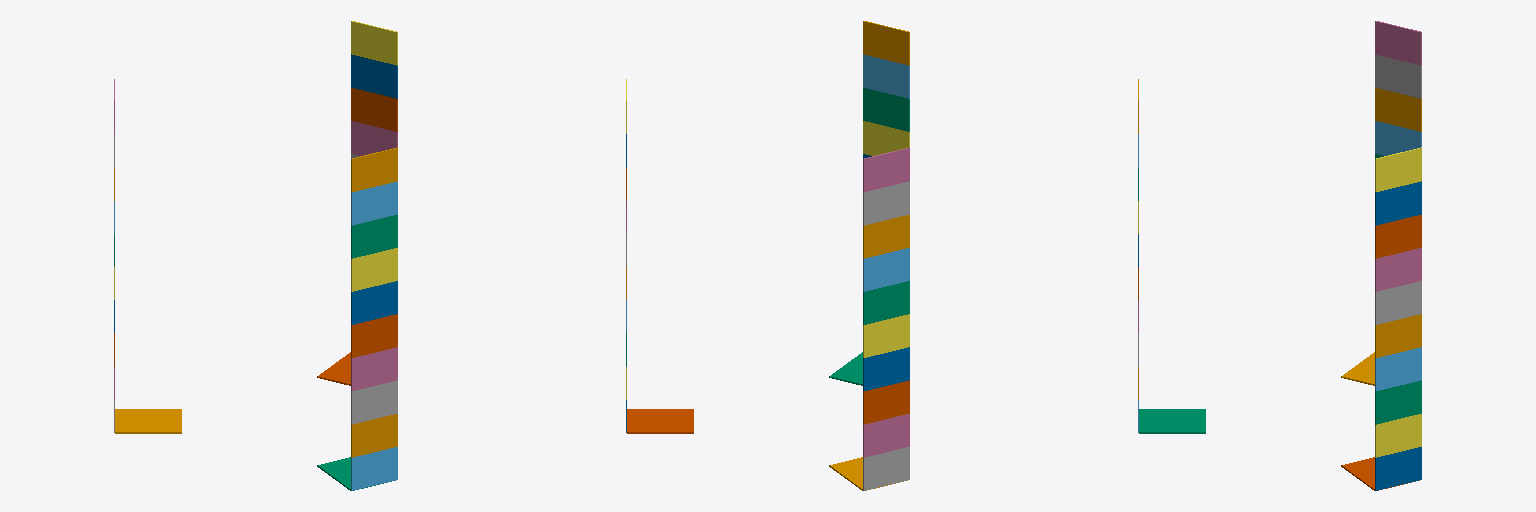
--- Facts derived from the render (not from the file) ---
3 views of the same robot in one strip: view 1: azimuth 30°, elevation 25°; view 2: azimuth 150°, elevation 25°; view 3: azimuth 270°, elevation 25° (orthographic).
Model gripper with 42 links and 41 joints (30 revolute, 4 prismatic, 7 fixed), rooted at world, posed all joints at 0 but 3 set to mid-range because 0 is outside their limits (finger_1_prismatic_joint = 0.097, finger_2_prismatic_joint = 0.097, finger_3_prismatic_joint = 0.097).
Links seen in each view (by area): view 1: finger_3_finger_hook_link, finger_1_segment_link_1, finger_2_segment_link_1, finger_1_segment_link_2, finger_1_segment_link_8, finger_2_segment_link_2, finger_1_segment_link_4, finger_1_segment_link_7, finger_1_segment_link_3, finger_1_segment_link_5, finger_1_segment_link_6, finger_1_segment_link_9 (+5 smaller); view 2: finger_2_finger_hook_link, finger_1_segment_link_1, finger_3_segment_link_1, finger_3_segment_link_2, finger_3_segment_link_8, finger_1_segment_link_2, finger_3_segment_link_4, finger_3_segment_link_7, finger_1_segment_link_3, finger_3_segment_link_3, finger_3_segment_link_5, finger_3_segment_link_6 (+5 smaller); view 3: finger_1_finger_hook_link, finger_2_segment_link_1, finger_3_segment_link_1, finger_2_segment_link_2, finger_2_segment_link_8, finger_3_segment_link_2, finger_2_segment_link_4, finger_2_segment_link_7, finger_2_segment_link_3, finger_2_segment_link_5, finger_2_segment_link_6, finger_2_segment_link_9 (+5 smaller).
Boxes of the visible links, bbox=[...] form: finger_3_finger_hook_link: bbox=[115, 409, 181, 433]; finger_1_segment_link_1: bbox=[351, 147, 397, 191]; finger_2_segment_link_1: bbox=[351, 21, 397, 65]; finger_1_segment_link_2: bbox=[351, 181, 397, 225]; finger_1_segment_link_8: bbox=[351, 380, 397, 424]; finger_2_segment_link_2: bbox=[351, 54, 397, 98]; finger_1_segment_link_4: bbox=[351, 248, 397, 291]; finger_1_segment_link_7: bbox=[351, 347, 397, 390]; finger_1_segment_link_3: bbox=[351, 215, 397, 258]; finger_1_segment_link_5: bbox=[351, 281, 397, 324]; finger_1_segment_link_6: bbox=[351, 314, 397, 357]; finger_1_segment_link_9: bbox=[351, 414, 397, 457]; finger_2_finger_hook_link: bbox=[627, 409, 693, 433]; finger_1_segment_link_1: bbox=[863, 21, 909, 65]; finger_3_segment_link_1: bbox=[863, 147, 909, 191]; finger_3_segment_link_2: bbox=[863, 181, 909, 225]; finger_3_segment_link_8: bbox=[863, 380, 909, 424]; finger_1_segment_link_2: bbox=[863, 54, 909, 98]; finger_3_segment_link_4: bbox=[863, 248, 909, 291]; finger_3_segment_link_7: bbox=[863, 347, 909, 390]; finger_1_segment_link_3: bbox=[863, 88, 909, 131]; finger_3_segment_link_3: bbox=[863, 215, 909, 258]; finger_3_segment_link_5: bbox=[863, 281, 909, 324]; finger_3_segment_link_6: bbox=[863, 314, 909, 357]; finger_1_finger_hook_link: bbox=[1139, 409, 1205, 433]; finger_2_segment_link_1: bbox=[1375, 147, 1421, 191]; finger_3_segment_link_1: bbox=[1375, 21, 1421, 65]; finger_2_segment_link_2: bbox=[1375, 181, 1421, 225]; finger_2_segment_link_8: bbox=[1375, 380, 1421, 424]; finger_3_segment_link_2: bbox=[1375, 54, 1421, 98]; finger_2_segment_link_4: bbox=[1375, 248, 1421, 291]; finger_2_segment_link_7: bbox=[1375, 347, 1421, 390]; finger_2_segment_link_3: bbox=[1375, 215, 1421, 258]; finger_2_segment_link_5: bbox=[1375, 281, 1421, 324]; finger_2_segment_link_6: bbox=[1375, 314, 1421, 357]; finger_2_segment_link_9: bbox=[1375, 414, 1421, 457].
Size in the robot's own frame: 0.1707 by 0.1478 by 0.1905 metres.
0 mesh visuals loaded from 4 distinct referenced files (none loaded); not drawn: 8 (reference not matched to a file when rendering).

URDF robot description (gripper):
<?xml version="1.0" encoding="utf-8"?>
<!-- =================================================================================== -->
<!-- |    This document was autogenerated by xacro from [local-path]/gripper_repo_ws/src/gripper_v2/gripper_description/urdf/gripper.urdf.xacro | -->
<!-- |    EDITING THIS FILE BY HAND IS NOT RECOMMENDED                                 | -->
<!-- =================================================================================== -->
<robot name="gripper">
  <!-- PARAMETERS TO BE SET BY HAND -->
  <!-- END OF PARAMETERS TO BE SET BY HAND -->
  <!-- retrieve info about the gripper
    <xacro:property name="filename" value="$(find gripper_description)/config/gripper.yaml"/>
    <xacro:property name="dictionary" value="${xacro.load_yaml(filename)}"/>
    <xacro:property name="is_segmented" value="${dictionary['gripper_config']['is_segmented']}"/>
    -->
  <!-- PARAMETERS TO BE SET BY HAND -->
  <!-- END OF PARAMETER TO BE SET BY HAND -->
  <!-- BASE LINK -->
  <link name="gripper_base_link">
    <inertial>
      <mass value="1.5"/>
      <origin rpy="3.14159265359 0 0" xyz="0 0 0.025"/>
      <inertia ixx="9.95e-3" ixy="2.73e-6" ixz="-14.32e-6" iyy="10.08e-3" iyz="121.38e-6" izz="5.13e-3"/>
    </inertial>
    <visual>
      <geometry>
        <mesh filename="package://gripper_description/meshes/main body visual.STL"/>
      </geometry>
    </visual>
    <collision>
      <geometry>
        <mesh filename="package://gripper_description/meshes/main body collision.STL"/>
      </geometry>
    </collision>
  </link>
  <!-- Intermediate link for prismatic joint -->
  <link name="finger_1_intermediate">
    <inertial>
      <mass value="0.1"/>
      <origin rpy="0 0 0" xyz="0 0 0"/>
      <inertia ixx="55.59e-6" ixy="-47.23e-6" ixz="1.16e-6" iyy="146.36e-6" iyz="1.00e-6" izz="154.18e-6"/>
    </inertial>
    <visual>
      <geometry>
        <mesh filename="package://gripper_description/meshes/nut visual.STL"/>
      </geometry>
    </visual>
    <collision>
      <geometry>
        <mesh filename="package://gripper_description/meshes/nut collision.STL"/>
      </geometry>
    </collision>
  </link>
  <!-- Main finger link -->
  <link name="finger_1">
    <inertial>
      <mass value="0.1"/>
      <origin rpy="0 0 0" xyz="0 0 0"/>
      <inertia ixx="55.59e-6" ixy="-47.23e-6" ixz="1.16e-6" iyy="146.36e-6" iyz="1.00e-6" izz="154.18e-6"/>
    </inertial>
    <visual>
      <geometry>
        <mesh filename="package://gripper_description/meshes/platform only visual.STL"/>
      </geometry>
    </visual>
    <collision>
      <geometry>
        <mesh filename="package://gripper_description/meshes/platform only collision.STL"/>
      </geometry>
    </collision>
  </link>
  <!-- Prismatic joint -->
  <joint name="finger_1_prismatic_joint" type="prismatic">
    <axis rpy="0 0 0" xyz="0 1 0"/>
    <parent link="gripper_base_link"/>
    <child link="finger_1_intermediate"/>
    <origin rpy="4.71238898038                    4.71238898038                    1.57079632679" xyz="0.0                    0.0                    0"/>
    <limit effort="40.0" lower="0.053" upper="0.141" velocity="0.015"/>
    <dynamics damping="1.0"/>
  </joint>
  <!-- Revolute joint -->
  <joint name="finger_1_revolute_joint" type="revolute">
    <axis rpy="0 0 0" xyz="0 0 1"/>
    <parent link="finger_1_intermediate"/>
    <child link="finger_1"/>
    <origin rpy="0 0 0.0" xyz="0 0 0"/>
    <limit effort="40.0" lower="-0.7" upper="0.7" velocity="0.1"/>
    <dynamics damping="1.0"/>
  </joint>
  <!-- Intermediate link for prismatic joint -->
  <link name="finger_2_intermediate">
    <inertial>
      <mass value="0.1"/>
      <origin rpy="0 0 0" xyz="0 0 0"/>
      <inertia ixx="55.59e-6" ixy="-47.23e-6" ixz="1.16e-6" iyy="146.36e-6" iyz="1.00e-6" izz="154.18e-6"/>
    </inertial>
    <visual>
      <geometry>
        <mesh filename="package://gripper_description/meshes/nut visual.STL"/>
      </geometry>
    </visual>
    <collision>
      <geometry>
        <mesh filename="package://gripper_description/meshes/nut collision.STL"/>
      </geometry>
    </collision>
  </link>
  <!-- Main finger link -->
  <link name="finger_2">
    <inertial>
      <mass value="0.1"/>
      <origin rpy="0 0 0" xyz="0 0 0"/>
      <inertia ixx="55.59e-6" ixy="-47.23e-6" ixz="1.16e-6" iyy="146.36e-6" iyz="1.00e-6" izz="154.18e-6"/>
    </inertial>
    <visual>
      <geometry>
        <mesh filename="package://gripper_description/meshes/platform only visual.STL"/>
      </geometry>
    </visual>
    <collision>
      <geometry>
        <mesh filename="package://gripper_description/meshes/platform only collision.STL"/>
      </geometry>
    </collision>
  </link>
  <!-- Prismatic joint -->
  <joint name="finger_2_prismatic_joint" type="prismatic">
    <axis rpy="0 0 0" xyz="0 1 0"/>
    <parent link="gripper_base_link"/>
    <child link="finger_2_intermediate"/>
    <origin rpy="4.71238898038                    4.71238898038                    -0.523598775598" xyz="0.0                    -0.0                    0"/>
    <limit effort="40.0" lower="0.053" upper="0.141" velocity="0.015"/>
    <dynamics damping="1.0"/>
  </joint>
  <!-- Revolute joint -->
  <joint name="finger_2_revolute_joint" type="revolute">
    <axis rpy="0 0 0" xyz="0 0 1"/>
    <parent link="finger_2_intermediate"/>
    <child link="finger_2"/>
    <origin rpy="0 0 0.0" xyz="0 0 0"/>
    <limit effort="40.0" lower="-0.7" upper="0.7" velocity="0.1"/>
    <dynamics damping="1.0"/>
  </joint>
  <!-- Intermediate link for prismatic joint -->
  <link name="finger_3_intermediate">
    <inertial>
      <mass value="0.1"/>
      <origin rpy="0 0 0" xyz="0 0 0"/>
      <inertia ixx="55.59e-6" ixy="-47.23e-6" ixz="1.16e-6" iyy="146.36e-6" iyz="1.00e-6" izz="154.18e-6"/>
    </inertial>
    <visual>
      <geometry>
        <mesh filename="package://gripper_description/meshes/nut visual.STL"/>
      </geometry>
    </visual>
    <collision>
      <geometry>
        <mesh filename="package://gripper_description/meshes/nut collision.STL"/>
      </geometry>
    </collision>
  </link>
  <!-- Main finger link -->
  <link name="finger_3">
    <inertial>
      <mass value="0.1"/>
      <origin rpy="0 0 0" xyz="0 0 0"/>
      <inertia ixx="55.59e-6" ixy="-47.23e-6" ixz="1.16e-6" iyy="146.36e-6" iyz="1.00e-6" izz="154.18e-6"/>
    </inertial>
    <visual>
      <geometry>
        <mesh filename="package://gripper_description/meshes/platform only visual.STL"/>
      </geometry>
    </visual>
    <collision>
      <geometry>
        <mesh filename="package://gripper_description/meshes/platform only collision.STL"/>
      </geometry>
    </collision>
  </link>
  <!-- Prismatic joint -->
  <joint name="finger_3_prismatic_joint" type="prismatic">
    <axis rpy="0 0 0" xyz="0 1 0"/>
    <parent link="gripper_base_link"/>
    <child link="finger_3_intermediate"/>
    <origin rpy="4.71238898038                    4.71238898038                    -2.61799387799" xyz="-0.0                    -0.0                    0"/>
    <limit effort="40.0" lower="0.053" upper="0.141" velocity="0.015"/>
    <dynamics damping="1.0"/>
  </joint>
  <!-- Revolute joint -->
  <joint name="finger_3_revolute_joint" type="revolute">
    <axis rpy="0 0 0" xyz="0 0 1"/>
    <parent link="finger_3_intermediate"/>
    <child link="finger_3"/>
    <origin rpy="0 0 0.0" xyz="0 0 0"/>
    <limit effort="40.0" lower="-0.7" upper="0.7" velocity="0.1"/>
    <dynamics damping="1.0"/>
  </joint>
  <!-- PALM -->
  <link name="palm">
    <inertial>
      <mass value="0.05"/>
      <origin rpy="0 0 0" xyz="0 0 0"/>
      <inertia ixx="10.0e-6" ixy="0.0" ixz="0.0" iyy="10.0e-6" iyz="0.0" izz="10.0e-6"/>
    </inertial>
    <visual>
      <origin rpy="0 0 0" xyz="0 0 0"/>
      <geometry>
        <mesh filename="package://gripper_description/meshes/palm visual.STL"/>
      </geometry>
    </visual>
    <collision>
      <geometry>
        <mesh filename="package://gripper_description/meshes/palm collision.STL"/>
      </geometry>
    </collision>
  </link>
  <joint name="palm_prismatic_joint" type="prismatic">
    <axis rpy="0 0 0" xyz="1 0 0"/>
    <parent link="gripper_base_link"/>
    <child link="palm"/>
    <origin rpy="0 -1.57079632679 0" xyz="0 0 0"/>
    <limit effort="40.0" lower="0.0" upper="0.16" velocity="0.036"/>
    <dynamics damping="1.0"/>
  </joint>
  <!-- PARAMETERS TO BE SET BY HAND -->
  <!-- END OF PARAMETERS TO BE SET BY HAND -->
  <!-- <xacro:property name="joint_friction" value="${total_friction / num_segments}"/>
    <xacro:property name="joint_damping" value="${total_damping * num_segments}"/> -->
  <link name="finger_1_segment_link_1">
    <inertial>
      <mass value="0.00633333333333"/>
      <inertia ixx="4.14205277778e-07" ixy="0.00" ixz="0.00" iyy="7.62538611111e-07" iyz="0.00" izz="1.17588888889e-06"/>
      <!-- <inertia ixx="${1e-6 * stability_factor}"
                 iyy="${1e-6 * stability_factor}"
                 izz="${1e-6 * stability_factor}"
                ixy="0.00" iyz="0.00" ixz="0.00" /> -->
    </inertial>
    <visual>
      <origin rpy="0 0 0" xyz="0.0095 0 0"/>
      <geometry>
        <box size="0.019 0.028 0.0009"/>
      </geometry>
    </visual>
    <collision>
      <origin rpy="0 0 0" xyz="0.0095 0 0"/>
      <geometry>
        <box size="0.019 0.028 0.0009"/>
      </geometry>
    </collision>
  </link>
  <gazebo reference="finger_1_segment_link_1">
    <material>Gazebo/Orange</material>
    <mu1>0.1</mu1>
    <mu2>0.1</mu2>
    <maxVel>0.0</maxVel>
    <minDepth>0.001</minDepth>
    <!-- <kp>100</kp>
        <kd>1</kd> -->
  </gazebo>
  <link name="finger_1_segment_link_2">
    <inertial>
      <mass value="0.00633333333333"/>
      <inertia ixx="4.14205277778e-07" ixy="0.00" ixz="0.00" iyy="7.62538611111e-07" iyz="0.00" izz="1.17588888889e-06"/>
      <!-- <inertia ixx="${1e-6 * stability_factor}"
                 iyy="${1e-6 * stability_factor}"
                 izz="${1e-6 * stability_factor}"
                ixy="0.00" iyz="0.00" ixz="0.00" /> -->
    </inertial>
    <visual>
      <origin rpy="0 0 0" xyz="0.0095 0 0"/>
      <geometry>
        <box size="0.019 0.028 0.0009"/>
      </geometry>
    </visual>
    <collision>
      <origin rpy="0 0 0" xyz="0.0095 0 0"/>
      <geometry>
        <box size="0.019 0.028 0.0009"/>
      </geometry>
    </collision>
  </link>
  <gazebo reference="finger_1_segment_link_2">
    <material>Gazebo/Orange</material>
    <mu1>0.1</mu1>
    <mu2>0.1</mu2>
    <maxVel>0.0</maxVel>
    <minDepth>0.001</minDepth>
    <!-- <kp>100</kp>
        <kd>1</kd> -->
  </gazebo>
  <!-- bending joint -->
  <joint name="finger_1_segment_joint_1" type="revolute">
    <axis rpy="0 0 0" xyz="0 1 0"/>
    <parent link="finger_1_segment_link_1"/>
    <child link="finger_1_segment_link_2"/>
    <origin rpy="0 0 0" xyz="0.019 0 0"/>
    <limit effort="1000.0" lower="-1.0" upper="1.0" velocity="1.0"/>
    <dynamics damping="0.001" friction="0.0"/>
  </joint>
  <gazebo reference="finger_1_segment_joint_1">
    <provideFeedback>1</provideFeedback>
    <springReference>0.0</springReference>
    <implicitSpringDamper>1</implicitSpringDamper>
    <springStiffness>3.0</springStiffness>
  </gazebo>
  <!-- set transmission for gazebo ROS controllers-->
  <transmission name="finger_1_segment_tran_1">
    <type>transmission_interface/SimpleTransmission</type>
    <joint name="finger_1_segment_joint_1">
      <hardwareInterface>hardware_interface/EffortJointInterface</hardwareInterface>
    </joint>
    <actuator name="finger_1_segment_motor_1">
      <hardwareInterface>hardware_interface/EffortJointInterface</hardwareInterface>
      <mechanicalReduction>1</mechanicalReduction>
    </actuator>
  </transmission>
  <link name="finger_1_segment_link_3">
    <inertial>
      <mass value="0.00633333333333"/>
      <inertia ixx="4.14205277778e-07" ixy="0.00" ixz="0.00" iyy="7.62538611111e-07" iyz="0.00" izz="1.17588888889e-06"/>
      <!-- <inertia ixx="${1e-6 * stability_factor}"
                 iyy="${1e-6 * stability_factor}"
                 izz="${1e-6 * stability_factor}"
                ixy="0.00" iyz="0.00" ixz="0.00" /> -->
    </inertial>
    <visual>
      <origin rpy="0 0 0" xyz="0.0095 0 0"/>
      <geometry>
        <box size="0.019 0.028 0.0009"/>
      </geometry>
    </visual>
    <collision>
      <origin rpy="0 0 0" xyz="0.0095 0 0"/>
      <geometry>
        <box size="0.019 0.028 0.0009"/>
      </geometry>
    </collision>
  </link>
  <gazebo reference="finger_1_segment_link_3">
    <material>Gazebo/Orange</material>
    <mu1>0.1</mu1>
    <mu2>0.1</mu2>
    <maxVel>0.0</maxVel>
    <minDepth>0.001</minDepth>
    <!-- <kp>100</kp>
        <kd>1</kd> -->
  </gazebo>
  <!-- bending joint -->
  <joint name="finger_1_segment_joint_2" type="revolute">
    <axis rpy="0 0 0" xyz="0 1 0"/>
    <parent link="finger_1_segment_link_2"/>
    <child link="finger_1_segment_link_3"/>
    <origin rpy="0 0 0" xyz="0.019 0 0"/>
    <limit effort="1000.0" lower="-1.0" upper="1.0" velocity="1.0"/>
    <dynamics damping="0.001" friction="0.0"/>
  </joint>
  <gazebo reference="finger_1_segment_joint_2">
    <provideFeedback>1</provideFeedback>
    <springReference>0.0</springReference>
    <implicitSpringDamper>1</implicitSpringDamper>
    <springStiffness>3.0</springStiffness>
  </gazebo>
  <!-- set transmission for gazebo ROS controllers-->
  <transmission name="finger_1_segment_tran_2">
    <type>transmission_interface/SimpleTransmission</type>
    <joint name="finger_1_segment_joint_2">
      <hardwareInterface>hardware_interface/EffortJointInterface</hardwareInterface>
    </joint>
    <actuator name="finger_1_segment_motor_2">
      <hardwareInterface>hardware_interface/EffortJointInterface</hardwareInterface>
      <mechanicalReduction>1</mechanicalReduction>
    </actuator>
  </transmission>
  <link name="finger_1_segment_link_4">
    <inertial>
      <mass value="0.00633333333333"/>
      <inertia ixx="4.14205277778e-07" ixy="0.00" ixz="0.00" iyy="7.62538611111e-07" iyz="0.00" izz="1.17588888889e-06"/>
      <!-- <inertia ixx="${1e-6 * stability_factor}"
                 iyy="${1e-6 * stability_factor}"
                 izz="${1e-6 * stability_factor}"
                ixy="0.00" iyz="0.00" ixz="0.00" /> -->
    </inertial>
    <visual>
      <origin rpy="0 0 0" xyz="0.0095 0 0"/>
      <geometry>
        <box size="0.019 0.028 0.0009"/>
      </geometry>
    </visual>
    <collision>
      <origin rpy="0 0 0" xyz="0.0095 0 0"/>
      <geometry>
        <box size="0.019 0.028 0.0009"/>
      </geometry>
    </collision>
  </link>
  <gazebo reference="finger_1_segment_link_4">
    <material>Gazebo/Orange</material>
    <mu1>0.1</mu1>
    <mu2>0.1</mu2>
    <maxVel>0.0</maxVel>
    <minDepth>0.001</minDepth>
    <!-- <kp>100</kp>
        <kd>1</kd> -->
  </gazebo>
  <!-- bending joint -->
  <joint name="finger_1_segment_joint_3" type="revolute">
    <axis rpy="0 0 0" xyz="0 1 0"/>
    <parent link="finger_1_segment_link_3"/>
    <child link="finger_1_segment_link_4"/>
    <origin rpy="0 0 0" xyz="0.019 0 0"/>
    <limit effort="1000.0" lower="-1.0" upper="1.0" velocity="1.0"/>
    <dynamics damping="0.001" friction="0.0"/>
  </joint>
  <gazebo reference="finger_1_segment_joint_3">
    <provideFeedback>1</provideFeedback>
    <springReference>0.0</springReference>
    <implicitSpringDamper>1</implicitSpringDamper>
    <springStiffness>3.0</springStiffness>
  </gazebo>
  <!-- set transmission for gazebo ROS controllers-->
  <transmission name="finger_1_segment_tran_3">
    <type>transmission_interface/SimpleTransmission</type>
    <joint name="finger_1_segment_joint_3">
      <hardwareInterface>hardware_interface/EffortJointInterface</hardwareInterface>
    </joint>
    <actuator name="finger_1_segment_motor_3">
      <hardwareInterface>hardware_interface/EffortJointInterface</hardwareInterface>
      <mechanicalReduction>1</mechanicalReduction>
    </actuator>
  </transmission>
  <link name="finger_1_segment_link_5">
    <inertial>
      <mass value="0.00633333333333"/>
      <inertia ixx="4.14205277778e-07" ixy="0.00" ixz="0.00" iyy="7.62538611111e-07" iyz="0.00" izz="1.17588888889e-06"/>
      <!-- <inertia ixx="${1e-6 * stability_factor}"
                 iyy="${1e-6 * stability_factor}"
                 izz="${1e-6 * stability_factor}"
                ixy="0.00" iyz="0.00" ixz="0.00" /> -->
    </inertial>
    <visual>
      <origin rpy="0 0 0" xyz="0.0095 0 0"/>
      <geometry>
        <box size="0.019 0.028 0.0009"/>
      </geometry>
    </visual>
    <collision>
      <origin rpy="0 0 0" xyz="0.0095 0 0"/>
      <geometry>
        <box size="0.019 0.028 0.0009"/>
      </geometry>
    </collision>
  </link>
  <gazebo reference="finger_1_segment_link_5">
    <material>Gazebo/Orange</material>
    <mu1>0.1</mu1>
    <mu2>0.1</mu2>
    <maxVel>0.0</maxVel>
    <minDepth>0.001</minDepth>
    <!-- <kp>100</kp>
        <kd>1</kd> -->
  </gazebo>
  <!-- bending joint -->
  <joint name="finger_1_segment_joint_4" type="revolute">
    <axis rpy="0 0 0" xyz="0 1 0"/>
    <parent link="finger_1_segment_link_4"/>
    <child link="finger_1_segment_link_5"/>
    <origin rpy="0 0 0" xyz="0.019 0 0"/>
    <limit effort="1000.0" lower="-1.0" upper="1.0" velocity="1.0"/>
    <dynamics damping="0.001" friction="0.0"/>
  </joint>
  <gazebo reference="finger_1_segment_joint_4">
    <provideFeedback>1</provideFeedback>
    <springReference>0.0</springReference>
    <implicitSpringDamper>1</implicitSpringDamper>
    <springStiffness>3.0</springStiffness>
  </gazebo>
  <!-- set transmission for gazebo ROS controllers-->
  <transmission name="finger_1_segment_tran_4">
    <type>transmission_interface/SimpleTransmission</type>
    <joint name="finger_1_segment_joint_4">
      <hardwareInterface>hardware_interface/EffortJointInterface</hardwareInterface>
    </joint>
    <actuator name="finger_1_segment_motor_4">
      <hardwareInterface>hardware_interface/EffortJointInterface</hardwareInterface>
      <mechanicalReduction>1</mechanicalReduction>
    </actuator>
  </transmission>
  <link name="finger_1_segment_link_6">
    <inertial>
      <mass value="0.00633333333333"/>
      <inertia ixx="4.14205277778e-07" ixy="0.00" ixz="0.00" iyy="7.62538611111e-07" iyz="0.00" izz="1.17588888889e-06"/>
      <!-- <inertia ixx="${1e-6 * stability_factor}"
                 iyy="${1e-6 * stability_factor}"
                 izz="${1e-6 * stability_factor}"
                ixy="0.00" iyz="0.00" ixz="0.00" /> -->
    </inertial>
    <visual>
      <origin rpy="0 0 0" xyz="0.0095 0 0"/>
      <geometry>
        <box size="0.019 0.028 0.0009"/>
      </geometry>
    </visual>
    <collision>
      <origin rpy="0 0 0" xyz="0.0095 0 0"/>
      <geometry>
        <box size="0.019 0.028 0.0009"/>
      </geometry>
    </collision>
  </link>
  <gazebo reference="finger_1_segment_link_6">
    <material>Gazebo/Orange</material>
    <mu1>0.1</mu1>
    <mu2>0.1</mu2>
    <maxVel>0.0</maxVel>
    <minDepth>0.001</minDepth>
    <!-- <kp>100</kp>
        <kd>1</kd> -->
  </gazebo>
  <!-- bending joint -->
  <joint name="finger_1_segment_joint_5" type="revolute">
    <axis rpy="0 0 0" xyz="0 1 0"/>
    <parent link="finger_1_segment_link_5"/>
    <child link="finger_1_segment_link_6"/>
    <origin rpy="0 0 0" xyz="0.019 0 0"/>
    <limit effort="1000.0" lower="-1.0" upper="1.0" velocity="1.0"/>
    <dynamics damping="0.001" friction="0.0"/>
  </joint>
  <gazebo reference="finger_1_segment_joint_5">
    <provideFeedback>1</provideFeedback>
    <springReference>0.0</springReference>
    <implicitSpringDamper>1</implicitSpringDamper>
    <springStiffness>3.0</springStiffness>
  </gazebo>
  <!-- set transmission for gazebo ROS controllers-->
  <transmission name="finger_1_segment_tran_5">
    <type>transmission_interface/SimpleTransmission</type>
    <joint name="finger_1_segment_joint_5">
      <hardwareInterface>hardware_interface/EffortJointInterface</hardwareInterface>
    </joint>
    <actuator name="finger_1_segment_motor_5">
      <hardwareInterface>hardware_interface/EffortJointInterface</hardwareInterface>
      <mechanicalReduction>1</mechanicalReduction>
    </actuator>
  </transmission>
  <link name="finger_1_segment_link_7">
    <inertial>
      <mass value="0.00633333333333"/>
      <inertia ixx="4.14205277778e-07" ixy="0.00" ixz="0.00" iyy="7.62538611111e-07" iyz="0.00" izz="1.17588888889e-06"/>
      <!-- <inertia ixx="${1e-6 * stability_factor}"
                 iyy="${1e-6 * stability_factor}"
                 izz="${1e-6 * stability_factor}"
                ixy="0.00" iyz="0.00" ixz="0.00" /> -->
    </inertial>
    <visual>
      <origin rpy="0 0 0" xyz="0.0095 0 0"/>
      <geometry>
        <box size="0.019 0.028 0.0009"/>
      </geometry>
    </visual>
    <collision>
      <origin rpy="0 0 0" xyz="0.0095 0 0"/>
      <geometry>
        <box size="0.019 0.028 0.0009"/>
      </geometry>
    </collision>
  </link>
  <gazebo reference="finger_1_segment_link_7">
    <material>Gazebo/Orange</material>
    <mu1>0.1</mu1>
    <mu2>0.1</mu2>
    <maxVel>0.0</maxVel>
    <minDepth>0.001</minDepth>
    <!-- <kp>100</kp>
        <kd>1</kd> -->
  </gazebo>
  <!-- bending joint -->
  <joint name="finger_1_segment_joint_6" type="revolute">
    <axis rpy="0 0 0" xyz="0 1 0"/>
    <parent link="finger_1_segment_link_6"/>
    <child link="finger_1_segment_link_7"/>
    <origin rpy="0 0 0" xyz="0.019 0 0"/>
    <limit effort="1000.0" lower="-1.0" upper="1.0" velocity="1.0"/>
    <dynamics damping="0.001" friction="0.0"/>
  </joint>
  <gazebo reference="finger_1_segment_joint_6">
    <provideFeedback>1</provideFeedback>
    <springReference>0.0</springReference>
    <implicitSpringDamper>1</implicitSpringDamper>
    <springStiffness>3.0</springStiffness>
  </gazebo>
  <!-- set transmission for gazebo ROS controllers-->
  <transmission name="finger_1_segment_tran_6">
    <type>transmission_interface/SimpleTransmission</type>
    <joint name="finger_1_segment_joint_6">
      <hardwareInterface>hardware_interface/EffortJointInterface</hardwareInterface>
    </joint>
    <actuator name="finger_1_segment_motor_6">
      <hardwareInterface>hardware_interface/EffortJointInterface</hardwareInterface>
      <mechanicalReduction>1</mechanicalReduction>
    </actuator>
  </transmission>
  <link name="finger_1_segment_link_8">
    <inertial>
      <mass value="0.00633333333333"/>
      <inertia ixx="4.14205277778e-07" ixy="0.00" ixz="0.00" iyy="7.62538611111e-07" iyz="0.00" izz="1.17588888889e-06"/>
      <!-- <inertia ixx="${1e-6 * stability_factor}"
                 iyy="${1e-6 * stability_factor}"
                 izz="${1e-6 * stability_factor}"
                ixy="0.00" iyz="0.00" ixz="0.00" /> -->
    </inertial>
    <visual>
      <origin rpy="0 0 0" xyz="0.0095 0 0"/>
      <geometry>
        <box size="0.019 0.028 0.0009"/>
      </geometry>
    </visual>
    <collision>
      <origin rpy="0 0 0" xyz="0.0095 0 0"/>
      <geometry>
        <box size="0.019 0.028 0.0009"/>
      </geometry>
    </collision>
  </link>
  <gazebo reference="finger_1_segment_link_8">
    <material>Gazebo/Orange</material>
    <mu1>0.1</mu1>
    <mu2>0.1</mu2>
    <maxVel>0.0</maxVel>
    <minDepth>0.001</minDepth>
    <!-- <kp>100</kp>
        <kd>1</kd> -->
  </gazebo>
  <!-- bending joint -->
  <joint name="finger_1_segment_joint_7" type="revolute">
    <axis rpy="0 0 0" xyz="0 1 0"/>
    <parent link="finger_1_segment_link_7"/>
    <child link="finger_1_segment_link_8"/>
    <origin rpy="0 0 0" xyz="0.019 0 0"/>
    <limit effort="1000.0" lower="-1.0" upper="1.0" velocity="1.0"/>
    <dynamics damping="0.001" friction="0.0"/>
  </joint>
  <gazebo reference="finger_1_segment_joint_7">
    <provideFeedback>1</provideFeedback>
    <springReference>0.0</springReference>
    <implicitSpringDamper>1</implicitSpringDamper>
    <springStiffness>3.0</springStiffness>
  </gazebo>
  <!-- set transmission for gazebo ROS controllers-->
  <transmission name="finger_1_segment_tran_7">
    <type>transmission_interface/SimpleTransmission</type>
    <joint name="finger_1_segment_joint_7">
      <hardwareInterface>hardware_interface/EffortJointInterface</hardwareInterface>
    </joint>
    <actuator name="finger_1_segment_motor_7">
      <hardwareInterface>hardware_interface/EffortJointInterface</hardwareInterface>
      <mechanicalReduction>1</mechanicalReduction>
    </actuator>
  </transmission>
  <link name="finger_1_segment_link_9">
    <inertial>
      <mass value="0.00633333333333"/>
      <inertia ixx="4.14205277778e-07" ixy="0.00" ixz="0.00" iyy="7.62538611111e-07" iyz="0.00" izz="1.17588888889e-06"/>
      <!-- <inertia ixx="${1e-6 * stability_factor}"
                 iyy="${1e-6 * stability_factor}"
                 izz="${1e-6 * stability_factor}"
                ixy="0.00" iyz="0.00" ixz="0.00" /> -->
    </inertial>
    <visual>
      <origin rpy="0 0 0" xyz="0.0095 0 0"/>
      <geometry>
        <box size="0.019 0.028 0.0009"/>
      </geometry>
    </visual>
    <collision>
      <origin rpy="0 0 0" xyz="0.0095 0 0"/>
      <geometry>
        <box size="0.019 0.028 0.0009"/>
      </geometry>
    </collision>
  </link>
  <gazebo reference="finger_1_segment_link_9">
    <material>Gazebo/Orange</material>
    <mu1>0.1</mu1>
    <mu2>0.1</mu2>
    <maxVel>0.0</maxVel>
    <minDepth>0.001</minDepth>
    <!-- <kp>100</kp>
        <kd>1</kd> -->
  </gazebo>
  <!-- bending joint -->
  <joint name="finger_1_segment_joint_8" type="revolute">
    <axis rpy="0 0 0" xyz="0 1 0"/>
    <parent link="finger_1_segment_link_8"/>
    <child link="finger_1_segment_link_9"/>
    <origin rpy="0 0 0" xyz="0.019 0 0"/>
    <limit effort="1000.0" lower="-1.0" upper="1.0" velocity="1.0"/>
    <dynamics damping="0.001" friction="0.0"/>
  </joint>
  <gazebo reference="finger_1_segment_joint_8">
    <provideFeedback>1</provideFeedback>
    <springReference>0.0</springReference>
    <implicitSpringDamper>1</implicitSpringDamper>
    <springStiffness>3.0</springStiffness>
  </gazebo>
  <!-- set transmission for gazebo ROS controllers-->
  <transmission name="finger_1_segment_tran_8">
    <type>transmission_interface/SimpleTransmission</type>
    <joint name="finger_1_segment_joint_8">
      <hardwareInterface>hardware_interface/EffortJointInterface</hardwareInterface>
    </joint>
    <actuator name="finger_1_segment_motor_8">
      <hardwareInterface>hardware_interface/EffortJointInterface</hardwareInterface>
      <mechanicalReduction>1</mechanicalReduction>
    </actuator>
  </transmission>
  <link name="finger_1_segment_link_10">
    <inertial>
      <mass value="0.00633333333333"/>
      <inertia ixx="4.14205277778e-07" ixy="0.00" ixz="0.00" iyy="7.62538611111e-07" iyz="0.00" izz="1.17588888889e-06"/>
      <!-- <inertia ixx="${1e-6 * stability_factor}"
                 iyy="${1e-6 * stability_factor}"
                 izz="${1e-6 * stability_factor}"
                ixy="0.00" iyz="0.00" ixz="0.00" /> -->
    </inertial>
    <visual>
      <origin rpy="0 0 0" xyz="0.0095 0 0"/>
      <geometry>
        <box size="0.019 0.028 0.0009"/>
      </geometry>
    </visual>
    <collision>
      <origin rpy="0 0 0" xyz="0.0095 0 0"/>
      <geometry>
        <box size="0.019 0.028 0.0009"/>
      </geometry>
    </collision>
  </link>
  <gazebo reference="finger_1_segment_link_10">
    <material>Gazebo/Orange</material>
    <mu1>0.1</mu1>
    <mu2>0.1</mu2>
    <maxVel>0.0</maxVel>
    <minDepth>0.001</minDepth>
    <!-- <kp>100</kp>
        <kd>1</kd> -->
  </gazebo>
  <!-- bending joint -->
  <joint name="finger_1_segment_joint_9" type="revolute">
    <axis rpy="0 0 0" xyz="0 1 0"/>
    <parent link="finger_1_segment_link_9"/>
    <child link="finger_1_segment_link_10"/>
    <origin rpy="0 0 0" xyz="0.019 0 0"/>
    <limit effort="1000.0" lower="-1.0" upper="1.0" velocity="1.0"/>
    <dynamics damping="0.001" friction="0.0"/>
  </joint>
  <gazebo reference="finger_1_segment_joint_9">
    <provideFeedback>1</provideFeedback>
    <springReference>0.0</springReference>
    <implicitSpringDamper>1</implicitSpringDamper>
    <springStiffness>3.0</springStiffness>
  </gazebo>
  <!-- set transmission for gazebo ROS controllers-->
  <transmission name="finger_1_segment_tran_9">
    <type>transmission_interface/SimpleTransmission</type>
    <joint name="finger_1_segment_joint_9">
      <hardwareInterface>hardware_interface/EffortJointInterface</hardwareInterface>
    </joint>
    <actuator name="finger_1_segment_motor_9">
      <hardwareInterface>hardware_interface/EffortJointInterface</hardwareInterface>
      <mechanicalReduction>1</mechanicalReduction>
    </actuator>
  </transmission>
  <!-- Add the finger hook link -->
  <link name="finger_1_finger_hook_link">
    <inertial>
      <mass value="0.00633333333333"/>
      <inertia ixx="4.14205277778e-07" ixy="0.00" ixz="0.00" iyy="7.62538611111e-07" iyz="0.00" izz="1.17588888889e-06"/>
      <!-- <inertia ixx="${1e-6 * stability_factor}"
                 iyy="${1e-6 * stability_factor}"
                 izz="${1e-6 * stability_factor}"
                ixy="0.00" iyz="0.00" ixz="0.00" /> -->
    </inertial>
    <visual>
      <origin rpy="0 0 0" xyz="0.0175 0 0"/>
      <geometry>
        <box size="0.035 0.028 0.0009"/>
      </geometry>
    </visual>
    <collision>
      <origin rpy="0 0 0" xyz="0.0175 0 0"/>
      <geometry>
        <box size="0.035 0.028 0.0009"/>
      </geometry>
    </collision>
  </link>
  <gazebo reference="finger_1_finger_hook_link">
    <material>Gazebo/Orange</material>
    <mu1>0.1</mu1>
    <mu2>0.1</mu2>
    <maxVel>0.0</maxVel>
    <minDepth>0.001</minDepth>
    <!-- <kp>100</kp>
        <kd>1</kd> -->
  </gazebo>
  <!-- Connect the finger hook via a fixed joint -->
  <joint name="finger_1_finger_hook_joint" type="fixed">
    <parent link="finger_1_segment_link_10"/>
    <child link="finger_1_finger_hook_link"/>
    <origin rpy="0 -1.57079632679 0" xyz="0.019 0 0"/>
  </joint>
  <!-- PARAMETERS TO BE SET BY HAND -->
  <!-- END OF PARAMETERS TO BE SET BY HAND -->
  <!-- <xacro:property name="joint_friction" value="${total_friction / num_segments}"/>
    <xacro:property name="joint_damping" value="${total_damping * num_segments}"/> -->
  <link name="finger_2_segment_link_1">
    <inertial>
      <mass value="0.00633333333333"/>
      <inertia ixx="4.14205277778e-07" ixy="0.00" ixz="0.00" iyy="7.62538611111e-07" iyz="0.00" izz="1.17588888889e-06"/>
      <!-- <inertia ixx="${1e-6 * stability_factor}"
                 iyy="${1e-6 * stability_factor}"
                 izz="${1e-6 * stability_factor}"
                ixy="0.00" iyz="0.00" ixz="0.00" /> -->
    </inertial>
    <visual>
      <origin rpy="0 0 0" xyz="0.0095 0 0"/>
      <geometry>
        <box size="0.019 0.028 0.0009"/>
      </geometry>
    </visual>
    <collision>
      <origin rpy="0 0 0" xyz="0.0095 0 0"/>
      <geometry>
        <box size="0.019 0.028 0.0009"/>
      </geometry>
    </collision>
  </link>
  <gazebo reference="finger_2_segment_link_1">
    <material>Gazebo/Orange</material>
    <mu1>0.1</mu1>
    <mu2>0.1</mu2>
    <maxVel>0.0</maxVel>
    <minDepth>0.001</minDepth>
    <!-- <kp>100</kp>
        <kd>1</kd> -->
  </gazebo>
  <link name="finger_2_segment_link_2">
    <inertial>
      <mass value="0.00633333333333"/>
      <inertia ixx="4.14205277778e-07" ixy="0.00" ixz="0.00" iyy="7.62538611111e-07" iyz="0.00" izz="1.17588888889e-06"/>
      <!-- <inertia ixx="${1e-6 * stability_factor}"
                 iyy="${1e-6 * stability_factor}"
                 izz="${1e-6 * stability_factor}"
                ixy="0.00" iyz="0.00" ixz="0.00" /> -->
    </inertial>
    <visual>
      <origin rpy="0 0 0" xyz="0.0095 0 0"/>
      <geometry>
        <box size="0.019 0.028 0.0009"/>
      </geometry>
    </visual>
    <collision>
      <origin rpy="0 0 0" xyz="0.0095 0 0"/>
      <geometry>
        <box size="0.019 0.028 0.0009"/>
      </geometry>
    </collision>
  </link>
  <gazebo reference="finger_2_segment_link_2">
    <material>Gazebo/Orange</material>
    <mu1>0.1</mu1>
    <mu2>0.1</mu2>
    <maxVel>0.0</maxVel>
    <minDepth>0.001</minDepth>
    <!-- <kp>100</kp>
        <kd>1</kd> -->
  </gazebo>
  <!-- bending joint -->
  <joint name="finger_2_segment_joint_1" type="revolute">
    <axis rpy="0 0 0" xyz="0 1 0"/>
    <parent link="finger_2_segment_link_1"/>
    <child link="finger_2_segment_link_2"/>
    <origin rpy="0 0 0" xyz="0.019 0 0"/>
    <limit effort="1000.0" lower="-1.0" upper="1.0" velocity="1.0"/>
    <dynamics damping="0.001" friction="0.0"/>
  </joint>
  <gazebo reference="finger_2_segment_joint_1">
    <provideFeedback>1</provideFeedback>
    <springReference>0.0</springReference>
    <implicitSpringDamper>1</implicitSpringDamper>
    <springStiffness>3.0</springStiffness>
  </gazebo>
  <!-- set transmission for gazebo ROS controllers-->
  <transmission name="finger_2_segment_tran_1">
    <type>transmission_interface/SimpleTransmission</type>
    <joint name="finger_2_segment_joint_1">
      <hardwareInterface>hardware_interface/EffortJointInterface</hardwareInterface>
    </joint>
    <actuator name="finger_2_segment_motor_1">
      <hardwareInterface>hardware_interface/EffortJointInterface</hardwareInterface>
      <mechanicalReduction>1</mechanicalReduction>
    </actuator>
  </transmission>
  <link name="finger_2_segment_link_3">
    <inertial>
      <mass value="0.00633333333333"/>
      <inertia ixx="4.14205277778e-07" ixy="0.00" ixz="0.00" iyy="7.62538611111e-07" iyz="0.00" izz="1.17588888889e-06"/>
      <!-- <inertia ixx="${1e-6 * stability_factor}"
                 iyy="${1e-6 * stability_factor}"
                 izz="${1e-6 * stability_factor}"
                ixy="0.00" iyz="0.00" ixz="0.00" /> -->
    </inertial>
    <visual>
      <origin rpy="0 0 0" xyz="0.0095 0 0"/>
      <geometry>
        <box size="0.019 0.028 0.0009"/>
      </geometry>
    </visual>
    <collision>
      <origin rpy="0 0 0" xyz="0.0095 0 0"/>
      <geometry>
        <box size="0.019 0.028 0.0009"/>
      </geometry>
    </collision>
  </link>
  <gazebo reference="finger_2_segment_link_3">
    <material>Gazebo/Orange</material>
    <mu1>0.1</mu1>
    <mu2>0.1</mu2>
    <maxVel>0.0</maxVel>
    <minDepth>0.001</minDepth>
    <!-- <kp>100</kp>
        <kd>1</kd> -->
  </gazebo>
  <!-- bending joint -->
  <joint name="finger_2_segment_joint_2" type="revolute">
    <axis rpy="0 0 0" xyz="0 1 0"/>
    <parent link="finger_2_segment_link_2"/>
    <child link="finger_2_segment_link_3"/>
    <origin rpy="0 0 0" xyz="0.019 0 0"/>
    <limit effort="1000.0" lower="-1.0" upper="1.0" velocity="1.0"/>
    <dynamics damping="0.001" friction="0.0"/>
  </joint>
  <gazebo reference="finger_2_segment_joint_2">
    <provideFeedback>1</provideFeedback>
    <springReference>0.0</springReference>
    <implicitSpringDamper>1</implicitSpringDamper>
    <springStiffness>3.0</springStiffness>
  </gazebo>
  <!-- set transmission for gazebo ROS controllers-->
  <transmission name="finger_2_segment_tran_2">
    <type>transmission_interface/SimpleTransmission</type>
    <joint name="finger_2_segment_joint_2">
      <hardwareInterface>hardware_interface/EffortJointInterface</hardwareInterface>
    </joint>
    <actuator name="finger_2_segment_motor_2">
      <hardwareInterface>hardware_interface/EffortJointInterface</hardwareInterface>
      <mechanicalReduction>1</mechanicalReduction>
    </actuator>
  </transmission>
  <link name="finger_2_segment_link_4">
    <inertial>
      <mass value="0.00633333333333"/>
      <inertia ixx="4.14205277778e-07" ixy="0.00" ixz="0.00" iyy="7.62538611111e-07" iyz="0.00" izz="1.17588888889e-06"/>
      <!-- <inertia ixx="${1e-6 * stability_factor}"
                 iyy="${1e-6 * stability_factor}"
                 izz="${1e-6 * stability_factor}"
                ixy="0.00" iyz="0.00" ixz="0.00" /> -->
    </inertial>
    <visual>
      <origin rpy="0 0 0" xyz="0.0095 0 0"/>
      <geometry>
        <box size="0.019 0.028 0.0009"/>
      </geometry>
    </visual>
    <collision>
      <origin rpy="0 0 0" xyz="0.0095 0 0"/>
      <geometry>
        <box size="0.019 0.028 0.0009"/>
      </geometry>
    </collision>
  </link>
  <gazebo reference="finger_2_segment_link_4">
    <material>Gazebo/Orange</material>
    <mu1>0.1</mu1>
    <mu2>0.1</mu2>
    <maxVel>0.0</maxVel>
    <minDepth>0.001</minDepth>
    <!-- <kp>100</kp>
        <kd>1</kd> -->
  </gazebo>
  <!-- bending joint -->
  <joint name="finger_2_segment_joint_3" type="revolute">
    <axis rpy="0 0 0" xyz="0 1 0"/>
    <parent link="finger_2_segment_link_3"/>
    <child link="finger_2_segment_link_4"/>
    <origin rpy="0 0 0" xyz="0.019 0 0"/>
    <limit effort="1000.0" lower="-1.0" upper="1.0" velocity="1.0"/>
    <dynamics damping="0.001" friction="0.0"/>
  </joint>
  <gazebo reference="finger_2_segment_joint_3">
    <provideFeedback>1</provideFeedback>
    <springReference>0.0</springReference>
    <implicitSpringDamper>1</implicitSpringDamper>
    <springStiffness>3.0</springStiffness>
  </gazebo>
  <!-- set transmission for gazebo ROS controllers-->
  <transmission name="finger_2_segment_tran_3">
    <type>transmission_interface/SimpleTransmission</type>
    <joint name="finger_2_segment_joint_3">
      <hardwareInterface>hardware_interface/EffortJointInterface</hardwareInterface>
    </joint>
    <actuator name="finger_2_segment_motor_3">
      <hardwareInterface>hardware_interface/EffortJointInterface</hardwareInterface>
      <mechanicalReduction>1</mechanicalReduction>
    </actuator>
  </transmission>
  <link name="finger_2_segment_link_5">
    <inertial>
      <mass value="0.00633333333333"/>
      <inertia ixx="4.14205277778e-07" ixy="0.00" ixz="0.00" iyy="7.62538611111e-07" iyz="0.00" izz="1.17588888889e-06"/>
      <!-- <inertia ixx="${1e-6 * stability_factor}"
                 iyy="${1e-6 * stability_factor}"
                 izz="${1e-6 * stability_factor}"
                ixy="0.00" iyz="0.00" ixz="0.00" /> -->
    </inertial>
    <visual>
      <origin rpy="0 0 0" xyz="0.0095 0 0"/>
      <geometry>
        <box size="0.019 0.028 0.0009"/>
      </geometry>
    </visual>
    <collision>
      <origin rpy="0 0 0" xyz="0.0095 0 0"/>
      <geometry>
        <box size="0.019 0.028 0.0009"/>
      </geometry>
    </collision>
  </link>
  <gazebo reference="finger_2_segment_link_5">
    <material>Gazebo/Orange</material>
    <mu1>0.1</mu1>
    <mu2>0.1</mu2>
    <maxVel>0.0</maxVel>
    <minDepth>0.001</minDepth>
    <!-- <kp>100</kp>
        <kd>1</kd> -->
  </gazebo>
  <!-- bending joint -->
  <joint name="finger_2_segment_joint_4" type="revolute">
    <axis rpy="0 0 0" xyz="0 1 0"/>
    <parent link="finger_2_segment_link_4"/>
    <child link="finger_2_segment_link_5"/>
    <origin rpy="0 0 0" xyz="0.019 0 0"/>
    <limit effort="1000.0" lower="-1.0" upper="1.0" velocity="1.0"/>
    <dynamics damping="0.001" friction="0.0"/>
  </joint>
  <gazebo reference="finger_2_segment_joint_4">
    <provideFeedback>1</provideFeedback>
    <springReference>0.0</springReference>
    <implicitSpringDamper>1</implicitSpringDamper>
    <springStiffness>3.0</springStiffness>
  </gazebo>
  <!-- set transmission for gazebo ROS controllers-->
  <transmission name="finger_2_segment_tran_4">
    <type>transmission_interface/SimpleTransmission</type>
    <joint name="finger_2_segment_joint_4">
      <hardwareInterface>hardware_interface/EffortJointInterface</hardwareInterface>
    </joint>
    <actuator name="finger_2_segment_motor_4">
      <hardwareInterface>hardware_interface/EffortJointInterface</hardwareInterface>
      <mechanicalReduction>1</mechanicalReduction>
    </actuator>
  </transmission>
  <link name="finger_2_segment_link_6">
    <inertial>
      <mass value="0.00633333333333"/>
      <inertia ixx="4.14205277778e-07" ixy="0.00" ixz="0.00" iyy="7.62538611111e-07" iyz="0.00" izz="1.17588888889e-06"/>
      <!-- <inertia ixx="${1e-6 * stability_factor}"
                 iyy="${1e-6 * stability_factor}"
                 izz="${1e-6 * stability_factor}"
                ixy="0.00" iyz="0.00" ixz="0.00" /> -->
    </inertial>
    <visual>
      <origin rpy="0 0 0" xyz="0.0095 0 0"/>
      <geometry>
        <box size="0.019 0.028 0.0009"/>
      </geometry>
    </visual>
    <collision>
      <origin rpy="0 0 0" xyz="0.0095 0 0"/>
      <geometry>
        <box size="0.019 0.028 0.0009"/>
      </geometry>
    </collision>
  </link>
  <gazebo reference="finger_2_segment_link_6">
    <material>Gazebo/Orange</material>
    <mu1>0.1</mu1>
    <mu2>0.1</mu2>
    <maxVel>0.0</maxVel>
    <minDepth>0.001</minDepth>
    <!-- <kp>100</kp>
        <kd>1</kd> -->
  </gazebo>
  <!-- bending joint -->
  <joint name="finger_2_segment_joint_5" type="revolute">
    <axis rpy="0 0 0" xyz="0 1 0"/>
    <parent link="finger_2_segment_link_5"/>
    <child link="finger_2_segment_link_6"/>
    <origin rpy="0 0 0" xyz="0.019 0 0"/>
    <limit effort="1000.0" lower="-1.0" upper="1.0" velocity="1.0"/>
    <dynamics damping="0.001" friction="0.0"/>
  </joint>
  <gazebo reference="finger_2_segment_joint_5">
    <provideFeedback>1</provideFeedback>
    <springReference>0.0</springReference>
    <implicitSpringDamper>1</implicitSpringDamper>
    <springStiffness>3.0</springStiffness>
  </gazebo>
  <!-- set transmission for gazebo ROS controllers-->
  <transmission name="finger_2_segment_tran_5">
    <type>transmission_interface/SimpleTransmission</type>
    <joint name="finger_2_segment_joint_5">
      <hardwareInterface>hardware_interface/EffortJointInterface</hardwareInterface>
    </joint>
    <actuator name="finger_2_segment_motor_5">
      <hardwareInterface>hardware_interface/EffortJointInterface</hardwareInterface>
      <mechanicalReduction>1</mechanicalReduction>
    </actuator>
  </transmission>
  <link name="finger_2_segment_link_7">
    <inertial>
      <mass value="0.00633333333333"/>
      <inertia ixx="4.14205277778e-07" ixy="0.00" ixz="0.00" iyy="7.62538611111e-07" iyz="0.00" izz="1.17588888889e-06"/>
      <!-- <inertia ixx="${1e-6 * stability_factor}"
                 iyy="${1e-6 * stability_factor}"
                 izz="${1e-6 * stability_factor}"
                ixy="0.00" iyz="0.00" ixz="0.00" /> -->
    </inertial>
    <visual>
      <origin rpy="0 0 0" xyz="0.0095 0 0"/>
      <geometry>
        <box size="0.019 0.028 0.0009"/>
      </geometry>
    </visual>
    <collision>
      <origin rpy="0 0 0" xyz="0.0095 0 0"/>
      <geometry>
        <box size="0.019 0.028 0.0009"/>
      </geometry>
    </collision>
  </link>
  <gazebo reference="finger_2_segment_link_7">
    <material>Gazebo/Orange</material>
    <mu1>0.1</mu1>
    <mu2>0.1</mu2>
    <maxVel>0.0</maxVel>
    <minDepth>0.001</minDepth>
    <!-- <kp>100</kp>
        <kd>1</kd> -->
  </gazebo>
  <!-- bending joint -->
  <joint name="finger_2_segment_joint_6" type="revolute">
    <axis rpy="0 0 0" xyz="0 1 0"/>
    <parent link="finger_2_segment_link_6"/>
    <child link="finger_2_segment_link_7"/>
    <origin rpy="0 0 0" xyz="0.019 0 0"/>
    <limit effort="1000.0" lower="-1.0" upper="1.0" velocity="1.0"/>
    <dynamics damping="0.001" friction="0.0"/>
  </joint>
  <gazebo reference="finger_2_segment_joint_6">
    <provideFeedback>1</provideFeedback>
    <springReference>0.0</springReference>
    <implicitSpringDamper>1</implicitSpringDamper>
    <springStiffness>3.0</springStiffness>
  </gazebo>
  <!-- set transmission for gazebo ROS controllers-->
  <transmission name="finger_2_segment_tran_6">
    <type>transmission_interface/SimpleTransmission</type>
    <joint name="finger_2_segment_joint_6">
      <hardwareInterface>hardware_interface/EffortJointInterface</hardwareInterface>
    </joint>
    <actuator name="finger_2_segment_motor_6">
      <hardwareInterface>hardware_interface/EffortJointInterface</hardwareInterface>
      <mechanicalReduction>1</mechanicalReduction>
    </actuator>
  </transmission>
  <link name="finger_2_segment_link_8">
    <inertial>
      <mass value="0.00633333333333"/>
      <inertia ixx="4.14205277778e-07" ixy="0.00" ixz="0.00" iyy="7.62538611111e-07" iyz="0.00" izz="1.17588888889e-06"/>
      <!-- <inertia ixx="${1e-6 * stability_factor}"
                 iyy="${1e-6 * stability_factor}"
                 izz="${1e-6 * stability_factor}"
                ixy="0.00" iyz="0.00" ixz="0.00" /> -->
    </inertial>
    <visual>
      <origin rpy="0 0 0" xyz="0.0095 0 0"/>
      <geometry>
        <box size="0.019 0.028 0.0009"/>
      </geometry>
    </visual>
    <collision>
      <origin rpy="0 0 0" xyz="0.0095 0 0"/>
      <geometry>
        <box size="0.019 0.028 0.0009"/>
      </geometry>
    </collision>
  </link>
  <gazebo reference="finger_2_segment_link_8">
    <material>Gazebo/Orange</material>
    <mu1>0.1</mu1>
    <mu2>0.1</mu2>
    <maxVel>0.0</maxVel>
    <minDepth>0.001</minDepth>
    <!-- <kp>100</kp>
        <kd>1</kd> -->
  </gazebo>
  <!-- bending joint -->
  <joint name="finger_2_segment_joint_7" type="revolute">
    <axis rpy="0 0 0" xyz="0 1 0"/>
    <parent link="finger_2_segment_link_7"/>
    <child link="finger_2_segment_link_8"/>
    <origin rpy="0 0 0" xyz="0.019 0 0"/>
    <limit effort="1000.0" lower="-1.0" upper="1.0" velocity="1.0"/>
    <dynamics damping="0.001" friction="0.0"/>
  </joint>
  <gazebo reference="finger_2_segment_joint_7">
    <provideFeedback>1</provideFeedback>
    <springReference>0.0</springReference>
    <implicitSpringDamper>1</implicitSpringDamper>
    <springStiffness>3.0</springStiffness>
  </gazebo>
  <!-- set transmission for gazebo ROS controllers-->
  <transmission name="finger_2_segment_tran_7">
    <type>transmission_interface/SimpleTransmission</type>
    <joint name="finger_2_segment_joint_7">
      <hardwareInterface>hardware_interface/EffortJointInterface</hardwareInterface>
    </joint>
    <actuator name="finger_2_segment_motor_7">
      <hardwareInterface>hardware_interface/EffortJointInterface</hardwareInterface>
      <mechanicalReduction>1</mechanicalReduction>
    </actuator>
  </transmission>
  <link name="finger_2_segment_link_9">
    <inertial>
      <mass value="0.00633333333333"/>
      <inertia ixx="4.14205277778e-07" ixy="0.00" ixz="0.00" iyy="7.62538611111e-07" iyz="0.00" izz="1.17588888889e-06"/>
      <!-- <inertia ixx="${1e-6 * stability_factor}"
                 iyy="${1e-6 * stability_factor}"
                 izz="${1e-6 * stability_factor}"
                ixy="0.00" iyz="0.00" ixz="0.00" /> -->
    </inertial>
    <visual>
      <origin rpy="0 0 0" xyz="0.0095 0 0"/>
      <geometry>
        <box size="0.019 0.028 0.0009"/>
      </geometry>
    </visual>
    <collision>
      <origin rpy="0 0 0" xyz="0.0095 0 0"/>
      <geometry>
        <box size="0.019 0.028 0.0009"/>
      </geometry>
    </collision>
  </link>
  <gazebo reference="finger_2_segment_link_9">
    <material>Gazebo/Orange</material>
    <mu1>0.1</mu1>
    <mu2>0.1</mu2>
    <maxVel>0.0</maxVel>
    <minDepth>0.001</minDepth>
    <!-- <kp>100</kp>
        <kd>1</kd> -->
  </gazebo>
  <!-- bending joint -->
  <joint name="finger_2_segment_joint_8" type="revolute">
    <axis rpy="0 0 0" xyz="0 1 0"/>
    <parent link="finger_2_segment_link_8"/>
    <child link="finger_2_segment_link_9"/>
    <origin rpy="0 0 0" xyz="0.019 0 0"/>
    <limit effort="1000.0" lower="-1.0" upper="1.0" velocity="1.0"/>
    <dynamics damping="0.001" friction="0.0"/>
  </joint>
  <gazebo reference="finger_2_segment_joint_8">
    <provideFeedback>1</provideFeedback>
    <springReference>0.0</springReference>
    <implicitSpringDamper>1</implicitSpringDamper>
    <springStiffness>3.0</springStiffness>
  </gazebo>
  <!-- set transmission for gazebo ROS controllers-->
  <transmission name="finger_2_segment_tran_8">
    <type>transmission_interface/SimpleTransmission</type>
    <joint name="finger_2_segment_joint_8">
      <hardwareInterface>hardware_interface/EffortJointInterface</hardwareInterface>
    </joint>
    <actuator name="finger_2_segment_motor_8">
      <hardwareInterface>hardware_interface/EffortJointInterface</hardwareInterface>
      <mechanicalReduction>1</mechanicalReduction>
    </actuator>
  </transmission>
  <link name="finger_2_segment_link_10">
    <inertial>
      <mass value="0.00633333333333"/>
      <inertia ixx="4.14205277778e-07" ixy="0.00" ixz="0.00" iyy="7.62538611111e-07" iyz="0.00" izz="1.17588888889e-06"/>
      <!-- <inertia ixx="${1e-6 * stability_factor}"
                 iyy="${1e-6 * stability_factor}"
                 izz="${1e-6 * stability_factor}"
                ixy="0.00" iyz="0.00" ixz="0.00" /> -->
    </inertial>
    <visual>
      <origin rpy="0 0 0" xyz="0.0095 0 0"/>
      <geometry>
        <box size="0.019 0.028 0.0009"/>
      </geometry>
    </visual>
    <collision>
      <origin rpy="0 0 0" xyz="0.0095 0 0"/>
      <geometry>
        <box size="0.019 0.028 0.0009"/>
      </geometry>
    </collision>
  </link>
  <gazebo reference="finger_2_segment_link_10">
    <material>Gazebo/Orange</material>
    <mu1>0.1</mu1>
    <mu2>0.1</mu2>
    <maxVel>0.0</maxVel>
    <minDepth>0.001</minDepth>
    <!-- <kp>100</kp>
        <kd>1</kd> -->
  </gazebo>
  <!-- bending joint -->
  <joint name="finger_2_segment_joint_9" type="revolute">
    <axis rpy="0 0 0" xyz="0 1 0"/>
    <parent link="finger_2_segment_link_9"/>
    <child link="finger_2_segment_link_10"/>
    <origin rpy="0 0 0" xyz="0.019 0 0"/>
    <limit effort="1000.0" lower="-1.0" upper="1.0" velocity="1.0"/>
    <dynamics damping="0.001" friction="0.0"/>
  </joint>
  <gazebo reference="finger_2_segment_joint_9">
    <provideFeedback>1</provideFeedback>
    <springReference>0.0</springReference>
    <implicitSpringDamper>1</implicitSpringDamper>
    <springStiffness>3.0</springStiffness>
  </gazebo>
  <!-- set transmission for gazebo ROS controllers-->
  <transmission name="finger_2_segment_tran_9">
    <type>transmission_interface/SimpleTransmission</type>
    <joint name="finger_2_segment_joint_9">
      <hardwareInterface>hardware_interface/EffortJointInterface</hardwareInterface>
    </joint>
    <actuator name="finger_2_segment_motor_9">
      <hardwareInterface>hardware_interface/EffortJointInterface</hardwareInterface>
      <mechanicalReduction>1</mechanicalReduction>
    </actuator>
  </transmission>
  <!-- Add the finger hook link -->
  <link name="finger_2_finger_hook_link">
    <inertial>
      <mass value="0.00633333333333"/>
      <inertia ixx="4.14205277778e-07" ixy="0.00" ixz="0.00" iyy="7.62538611111e-07" iyz="0.00" izz="1.17588888889e-06"/>
      <!-- <inertia ixx="${1e-6 * stability_factor}"
                 iyy="${1e-6 * stability_factor}"
                 izz="${1e-6 * stability_factor}"
                ixy="0.00" iyz="0.00" ixz="0.00" /> -->
    </inertial>
    <visual>
      <origin rpy="0 0 0" xyz="0.0175 0 0"/>
      <geometry>
        <box size="0.035 0.028 0.0009"/>
      </geometry>
    </visual>
    <collision>
      <origin rpy="0 0 0" xyz="0.0175 0 0"/>
      <geometry>
        <box size="0.035 0.028 0.0009"/>
      </geometry>
    </collision>
  </link>
  <gazebo reference="finger_2_finger_hook_link">
    <material>Gazebo/Orange</material>
    <mu1>0.1</mu1>
    <mu2>0.1</mu2>
    <maxVel>0.0</maxVel>
    <minDepth>0.001</minDepth>
    <!-- <kp>100</kp>
        <kd>1</kd> -->
  </gazebo>
  <!-- Connect the finger hook via a fixed joint -->
  <joint name="finger_2_finger_hook_joint" type="fixed">
    <parent link="finger_2_segment_link_10"/>
    <child link="finger_2_finger_hook_link"/>
    <origin rpy="0 -1.57079632679 0" xyz="0.019 0 0"/>
  </joint>
  <!-- PARAMETERS TO BE SET BY HAND -->
  <!-- END OF PARAMETERS TO BE SET BY HAND -->
  <!-- <xacro:property name="joint_friction" value="${total_friction / num_segments}"/>
    <xacro:property name="joint_damping" value="${total_damping * num_segments}"/> -->
  <link name="finger_3_segment_link_1">
    <inertial>
      <mass value="0.00633333333333"/>
      <inertia ixx="4.14205277778e-07" ixy="0.00" ixz="0.00" iyy="7.62538611111e-07" iyz="0.00" izz="1.17588888889e-06"/>
      <!-- <inertia ixx="${1e-6 * stability_factor}"
                 iyy="${1e-6 * stability_factor}"
                 izz="${1e-6 * stability_factor}"
                ixy="0.00" iyz="0.00" ixz="0.00" /> -->
    </inertial>
    <visual>
      <origin rpy="0 0 0" xyz="0.0095 0 0"/>
      <geometry>
        <box size="0.019 0.028 0.0009"/>
      </geometry>
    </visual>
    <collision>
      <origin rpy="0 0 0" xyz="0.0095 0 0"/>
      <geometry>
        <box size="0.019 0.028 0.0009"/>
      </geometry>
    </collision>
  </link>
  <gazebo reference="finger_3_segment_link_1">
    <material>Gazebo/Orange</material>
    <mu1>0.1</mu1>
    <mu2>0.1</mu2>
    <maxVel>0.0</maxVel>
    <minDepth>0.001</minDepth>
    <!-- <kp>100</kp>
        <kd>1</kd> -->
  </gazebo>
  <link name="finger_3_segment_link_2">
    <inertial>
      <mass value="0.00633333333333"/>
      <inertia ixx="4.14205277778e-07" ixy="0.00" ixz="0.00" iyy="7.62538611111e-07" iyz="0.00" izz="1.17588888889e-06"/>
      <!-- <inertia ixx="${1e-6 * stability_factor}"
                 iyy="${1e-6 * stability_factor}"
                 izz="${1e-6 * stability_factor}"
                ixy="0.00" iyz="0.00" ixz="0.00" /> -->
    </inertial>
    <visual>
      <origin rpy="0 0 0" xyz="0.0095 0 0"/>
      <geometry>
        <box size="0.019 0.028 0.0009"/>
      </geometry>
    </visual>
    <collision>
      <origin rpy="0 0 0" xyz="0.0095 0 0"/>
      <geometry>
        <box size="0.019 0.028 0.0009"/>
      </geometry>
    </collision>
  </link>
  <gazebo reference="finger_3_segment_link_2">
    <material>Gazebo/Orange</material>
    <mu1>0.1</mu1>
    <mu2>0.1</mu2>
    <maxVel>0.0</maxVel>
    <minDepth>0.001</minDepth>
    <!-- <kp>100</kp>
        <kd>1</kd> -->
  </gazebo>
  <!-- bending joint -->
  <joint name="finger_3_segment_joint_1" type="revolute">
    <axis rpy="0 0 0" xyz="0 1 0"/>
    <parent link="finger_3_segment_link_1"/>
    <child link="finger_3_segment_link_2"/>
    <origin rpy="0 0 0" xyz="0.019 0 0"/>
    <limit effort="1000.0" lower="-1.0" upper="1.0" velocity="1.0"/>
    <dynamics damping="0.001" friction="0.0"/>
  </joint>
  <gazebo reference="finger_3_segment_joint_1">
    <provideFeedback>1</provideFeedback>
    <springReference>0.0</springReference>
    <implicitSpringDamper>1</implicitSpringDamper>
    <springStiffness>3.0</springStiffness>
  </gazebo>
  <!-- set transmission for gazebo ROS controllers-->
  <transmission name="finger_3_segment_tran_1">
    <type>transmission_interface/SimpleTransmission</type>
    <joint name="finger_3_segment_joint_1">
      <hardwareInterface>hardware_interface/EffortJointInterface</hardwareInterface>
    </joint>
    <actuator name="finger_3_segment_motor_1">
      <hardwareInterface>hardware_interface/EffortJointInterface</hardwareInterface>
      <mechanicalReduction>1</mechanicalReduction>
    </actuator>
  </transmission>
  <link name="finger_3_segment_link_3">
    <inertial>
      <mass value="0.00633333333333"/>
      <inertia ixx="4.14205277778e-07" ixy="0.00" ixz="0.00" iyy="7.62538611111e-07" iyz="0.00" izz="1.17588888889e-06"/>
      <!-- <inertia ixx="${1e-6 * stability_factor}"
                 iyy="${1e-6 * stability_factor}"
                 izz="${1e-6 * stability_factor}"
                ixy="0.00" iyz="0.00" ixz="0.00" /> -->
    </inertial>
    <visual>
      <origin rpy="0 0 0" xyz="0.0095 0 0"/>
      <geometry>
        <box size="0.019 0.028 0.0009"/>
      </geometry>
    </visual>
    <collision>
      <origin rpy="0 0 0" xyz="0.0095 0 0"/>
      <geometry>
        <box size="0.019 0.028 0.0009"/>
      </geometry>
    </collision>
  </link>
  <gazebo reference="finger_3_segment_link_3">
    <material>Gazebo/Orange</material>
    <mu1>0.1</mu1>
    <mu2>0.1</mu2>
    <maxVel>0.0</maxVel>
    <minDepth>0.001</minDepth>
    <!-- <kp>100</kp>
        <kd>1</kd> -->
  </gazebo>
  <!-- bending joint -->
  <joint name="finger_3_segment_joint_2" type="revolute">
    <axis rpy="0 0 0" xyz="0 1 0"/>
    <parent link="finger_3_segment_link_2"/>
    <child link="finger_3_segment_link_3"/>
    <origin rpy="0 0 0" xyz="0.019 0 0"/>
    <limit effort="1000.0" lower="-1.0" upper="1.0" velocity="1.0"/>
    <dynamics damping="0.001" friction="0.0"/>
  </joint>
  <gazebo reference="finger_3_segment_joint_2">
    <provideFeedback>1</provideFeedback>
    <springReference>0.0</springReference>
    <implicitSpringDamper>1</implicitSpringDamper>
    <springStiffness>3.0</springStiffness>
  </gazebo>
  <!-- set transmission for gazebo ROS controllers-->
  <transmission name="finger_3_segment_tran_2">
    <type>transmission_interface/SimpleTransmission</type>
    <joint name="finger_3_segment_joint_2">
      <hardwareInterface>hardware_interface/EffortJointInterface</hardwareInterface>
    </joint>
    <actuator name="finger_3_segment_motor_2">
      <hardwareInterface>hardware_interface/EffortJointInterface</hardwareInterface>
      <mechanicalReduction>1</mechanicalReduction>
    </actuator>
  </transmission>
  <link name="finger_3_segment_link_4">
    <inertial>
      <mass value="0.00633333333333"/>
      <inertia ixx="4.14205277778e-07" ixy="0.00" ixz="0.00" iyy="7.62538611111e-07" iyz="0.00" izz="1.17588888889e-06"/>
      <!-- <inertia ixx="${1e-6 * stability_factor}"
                 iyy="${1e-6 * stability_factor}"
                 izz="${1e-6 * stability_factor}"
                ixy="0.00" iyz="0.00" ixz="0.00" /> -->
    </inertial>
    <visual>
      <origin rpy="0 0 0" xyz="0.0095 0 0"/>
      <geometry>
        <box size="0.019 0.028 0.0009"/>
      </geometry>
    </visual>
    <collision>
      <origin rpy="0 0 0" xyz="0.0095 0 0"/>
      <geometry>
        <box size="0.019 0.028 0.0009"/>
      </geometry>
    </collision>
  </link>
  <gazebo reference="finger_3_segment_link_4">
    <material>Gazebo/Orange</material>
    <mu1>0.1</mu1>
    <mu2>0.1</mu2>
    <maxVel>0.0</maxVel>
    <minDepth>0.001</minDepth>
    <!-- <kp>100</kp>
        <kd>1</kd> -->
  </gazebo>
  <!-- bending joint -->
  <joint name="finger_3_segment_joint_3" type="revolute">
    <axis rpy="0 0 0" xyz="0 1 0"/>
    <parent link="finger_3_segment_link_3"/>
    <child link="finger_3_segment_link_4"/>
    <origin rpy="0 0 0" xyz="0.019 0 0"/>
    <limit effort="1000.0" lower="-1.0" upper="1.0" velocity="1.0"/>
    <dynamics damping="0.001" friction="0.0"/>
  </joint>
  <gazebo reference="finger_3_segment_joint_3">
    <provideFeedback>1</provideFeedback>
    <springReference>0.0</springReference>
    <implicitSpringDamper>1</implicitSpringDamper>
    <springStiffness>3.0</springStiffness>
  </gazebo>
  <!-- set transmission for gazebo ROS controllers-->
  <transmission name="finger_3_segment_tran_3">
    <type>transmission_interface/SimpleTransmission</type>
    <joint name="finger_3_segment_joint_3">
      <hardwareInterface>hardware_interface/EffortJointInterface</hardwareInterface>
    </joint>
    <actuator name="finger_3_segment_motor_3">
      <hardwareInterface>hardware_interface/EffortJointInterface</hardwareInterface>
      <mechanicalReduction>1</mechanicalReduction>
    </actuator>
  </transmission>
  <link name="finger_3_segment_link_5">
    <inertial>
      <mass value="0.00633333333333"/>
      <inertia ixx="4.14205277778e-07" ixy="0.00" ixz="0.00" iyy="7.62538611111e-07" iyz="0.00" izz="1.17588888889e-06"/>
      <!-- <inertia ixx="${1e-6 * stability_factor}"
                 iyy="${1e-6 * stability_factor}"
                 izz="${1e-6 * stability_factor}"
                ixy="0.00" iyz="0.00" ixz="0.00" /> -->
    </inertial>
    <visual>
      <origin rpy="0 0 0" xyz="0.0095 0 0"/>
      <geometry>
        <box size="0.019 0.028 0.0009"/>
      </geometry>
    </visual>
    <collision>
      <origin rpy="0 0 0" xyz="0.0095 0 0"/>
      <geometry>
        <box size="0.019 0.028 0.0009"/>
      </geometry>
    </collision>
  </link>
  <gazebo reference="finger_3_segment_link_5">
    <material>Gazebo/Orange</material>
    <mu1>0.1</mu1>
    <mu2>0.1</mu2>
    <maxVel>0.0</maxVel>
    <minDepth>0.001</minDepth>
    <!-- <kp>100</kp>
        <kd>1</kd> -->
  </gazebo>
  <!-- bending joint -->
  <joint name="finger_3_segment_joint_4" type="revolute">
    <axis rpy="0 0 0" xyz="0 1 0"/>
    <parent link="finger_3_segment_link_4"/>
    <child link="finger_3_segment_link_5"/>
    <origin rpy="0 0 0" xyz="0.019 0 0"/>
    <limit effort="1000.0" lower="-1.0" upper="1.0" velocity="1.0"/>
    <dynamics damping="0.001" friction="0.0"/>
  </joint>
  <gazebo reference="finger_3_segment_joint_4">
    <provideFeedback>1</provideFeedback>
    <springReference>0.0</springReference>
    <implicitSpringDamper>1</implicitSpringDamper>
    <springStiffness>3.0</springStiffness>
  </gazebo>
  <!-- set transmission for gazebo ROS controllers-->
  <transmission name="finger_3_segment_tran_4">
    <type>transmission_interface/SimpleTransmission</type>
    <joint name="finger_3_segment_joint_4">
      <hardwareInterface>hardware_interface/EffortJointInterface</hardwareInterface>
    </joint>
    <actuator name="finger_3_segment_motor_4">
      <hardwareInterface>hardware_interface/EffortJointInterface</hardwareInterface>
      <mechanicalReduction>1</mechanicalReduction>
    </actuator>
  </transmission>
  <link name="finger_3_segment_link_6">
    <inertial>
      <mass value="0.00633333333333"/>
      <inertia ixx="4.14205277778e-07" ixy="0.00" ixz="0.00" iyy="7.62538611111e-07" iyz="0.00" izz="1.17588888889e-06"/>
      <!-- <inertia ixx="${1e-6 * stability_factor}"
                 iyy="${1e-6 * stability_factor}"
                 izz="${1e-6 * stability_factor}"
                ixy="0.00" iyz="0.00" ixz="0.00" /> -->
    </inertial>
    <visual>
      <origin rpy="0 0 0" xyz="0.0095 0 0"/>
      <geometry>
        <box size="0.019 0.028 0.0009"/>
      </geometry>
    </visual>
    <collision>
      <origin rpy="0 0 0" xyz="0.0095 0 0"/>
      <geometry>
        <box size="0.019 0.028 0.0009"/>
      </geometry>
    </collision>
  </link>
  <gazebo reference="finger_3_segment_link_6">
    <material>Gazebo/Orange</material>
    <mu1>0.1</mu1>
    <mu2>0.1</mu2>
    <maxVel>0.0</maxVel>
    <minDepth>0.001</minDepth>
    <!-- <kp>100</kp>
        <kd>1</kd> -->
  </gazebo>
  <!-- bending joint -->
  <joint name="finger_3_segment_joint_5" type="revolute">
    <axis rpy="0 0 0" xyz="0 1 0"/>
    <parent link="finger_3_segment_link_5"/>
    <child link="finger_3_segment_link_6"/>
    <origin rpy="0 0 0" xyz="0.019 0 0"/>
    <limit effort="1000.0" lower="-1.0" upper="1.0" velocity="1.0"/>
    <dynamics damping="0.001" friction="0.0"/>
  </joint>
  <gazebo reference="finger_3_segment_joint_5">
    <provideFeedback>1</provideFeedback>
    <springReference>0.0</springReference>
    <implicitSpringDamper>1</implicitSpringDamper>
    <springStiffness>3.0</springStiffness>
  </gazebo>
  <!-- set transmission for gazebo ROS controllers-->
  <transmission name="finger_3_segment_tran_5">
    <type>transmission_interface/SimpleTransmission</type>
    <joint name="finger_3_segment_joint_5">
      <hardwareInterface>hardware_interface/EffortJointInterface</hardwareInterface>
    </joint>
    <actuator name="finger_3_segment_motor_5">
      <hardwareInterface>hardware_interface/EffortJointInterface</hardwareInterface>
      <mechanicalReduction>1</mechanicalReduction>
    </actuator>
  </transmission>
  <link name="finger_3_segment_link_7">
    <inertial>
      <mass value="0.00633333333333"/>
      <inertia ixx="4.14205277778e-07" ixy="0.00" ixz="0.00" iyy="7.62538611111e-07" iyz="0.00" izz="1.17588888889e-06"/>
      <!-- <inertia ixx="${1e-6 * stability_factor}"
                 iyy="${1e-6 * stability_factor}"
                 izz="${1e-6 * stability_factor}"
                ixy="0.00" iyz="0.00" ixz="0.00" /> -->
    </inertial>
    <visual>
      <origin rpy="0 0 0" xyz="0.0095 0 0"/>
      <geometry>
        <box size="0.019 0.028 0.0009"/>
      </geometry>
    </visual>
    <collision>
      <origin rpy="0 0 0" xyz="0.0095 0 0"/>
      <geometry>
        <box size="0.019 0.028 0.0009"/>
      </geometry>
    </collision>
  </link>
  <gazebo reference="finger_3_segment_link_7">
    <material>Gazebo/Orange</material>
    <mu1>0.1</mu1>
    <mu2>0.1</mu2>
    <maxVel>0.0</maxVel>
    <minDepth>0.001</minDepth>
    <!-- <kp>100</kp>
        <kd>1</kd> -->
  </gazebo>
  <!-- bending joint -->
  <joint name="finger_3_segment_joint_6" type="revolute">
    <axis rpy="0 0 0" xyz="0 1 0"/>
    <parent link="finger_3_segment_link_6"/>
    <child link="finger_3_segment_link_7"/>
    <origin rpy="0 0 0" xyz="0.019 0 0"/>
    <limit effort="1000.0" lower="-1.0" upper="1.0" velocity="1.0"/>
    <dynamics damping="0.001" friction="0.0"/>
  </joint>
  <gazebo reference="finger_3_segment_joint_6">
    <provideFeedback>1</provideFeedback>
    <springReference>0.0</springReference>
    <implicitSpringDamper>1</implicitSpringDamper>
    <springStiffness>3.0</springStiffness>
  </gazebo>
  <!-- set transmission for gazebo ROS controllers-->
  <transmission name="finger_3_segment_tran_6">
    <type>transmission_interface/SimpleTransmission</type>
    <joint name="finger_3_segment_joint_6">
      <hardwareInterface>hardware_interface/EffortJointInterface</hardwareInterface>
    </joint>
    <actuator name="finger_3_segment_motor_6">
      <hardwareInterface>hardware_interface/EffortJointInterface</hardwareInterface>
      <mechanicalReduction>1</mechanicalReduction>
    </actuator>
  </transmission>
  <link name="finger_3_segment_link_8">
    <inertial>
      <mass value="0.00633333333333"/>
      <inertia ixx="4.14205277778e-07" ixy="0.00" ixz="0.00" iyy="7.62538611111e-07" iyz="0.00" izz="1.17588888889e-06"/>
      <!-- <inertia ixx="${1e-6 * stability_factor}"
                 iyy="${1e-6 * stability_factor}"
                 izz="${1e-6 * stability_factor}"
                ixy="0.00" iyz="0.00" ixz="0.00" /> -->
    </inertial>
    <visual>
      <origin rpy="0 0 0" xyz="0.0095 0 0"/>
      <geometry>
        <box size="0.019 0.028 0.0009"/>
      </geometry>
    </visual>
    <collision>
      <origin rpy="0 0 0" xyz="0.0095 0 0"/>
      <geometry>
        <box size="0.019 0.028 0.0009"/>
      </geometry>
    </collision>
  </link>
  <gazebo reference="finger_3_segment_link_8">
    <material>Gazebo/Orange</material>
    <mu1>0.1</mu1>
    <mu2>0.1</mu2>
    <maxVel>0.0</maxVel>
    <minDepth>0.001</minDepth>
    <!-- <kp>100</kp>
        <kd>1</kd> -->
  </gazebo>
  <!-- bending joint -->
  <joint name="finger_3_segment_joint_7" type="revolute">
    <axis rpy="0 0 0" xyz="0 1 0"/>
    <parent link="finger_3_segment_link_7"/>
    <child link="finger_3_segment_link_8"/>
    <origin rpy="0 0 0" xyz="0.019 0 0"/>
    <limit effort="1000.0" lower="-1.0" upper="1.0" velocity="1.0"/>
    <dynamics damping="0.001" friction="0.0"/>
  </joint>
  <gazebo reference="finger_3_segment_joint_7">
    <provideFeedback>1</provideFeedback>
    <springReference>0.0</springReference>
    <implicitSpringDamper>1</implicitSpringDamper>
    <springStiffness>3.0</springStiffness>
  </gazebo>
  <!-- set transmission for gazebo ROS controllers-->
  <transmission name="finger_3_segment_tran_7">
    <type>transmission_interface/SimpleTransmission</type>
    <joint name="finger_3_segment_joint_7">
      <hardwareInterface>hardware_interface/EffortJointInterface</hardwareInterface>
    </joint>
    <actuator name="finger_3_segment_motor_7">
      <hardwareInterface>hardware_interface/EffortJointInterface</hardwareInterface>
      <mechanicalReduction>1</mechanicalReduction>
    </actuator>
  </transmission>
  <link name="finger_3_segment_link_9">
    <inertial>
      <mass value="0.00633333333333"/>
      <inertia ixx="4.14205277778e-07" ixy="0.00" ixz="0.00" iyy="7.62538611111e-07" iyz="0.00" izz="1.17588888889e-06"/>
      <!-- <inertia ixx="${1e-6 * stability_factor}"
                 iyy="${1e-6 * stability_factor}"
                 izz="${1e-6 * stability_factor}"
                ixy="0.00" iyz="0.00" ixz="0.00" /> -->
    </inertial>
    <visual>
      <origin rpy="0 0 0" xyz="0.0095 0 0"/>
      <geometry>
        <box size="0.019 0.028 0.0009"/>
      </geometry>
    </visual>
    <collision>
      <origin rpy="0 0 0" xyz="0.0095 0 0"/>
      <geometry>
        <box size="0.019 0.028 0.0009"/>
      </geometry>
    </collision>
  </link>
  <gazebo reference="finger_3_segment_link_9">
    <material>Gazebo/Orange</material>
    <mu1>0.1</mu1>
    <mu2>0.1</mu2>
    <maxVel>0.0</maxVel>
    <minDepth>0.001</minDepth>
    <!-- <kp>100</kp>
        <kd>1</kd> -->
  </gazebo>
  <!-- bending joint -->
  <joint name="finger_3_segment_joint_8" type="revolute">
    <axis rpy="0 0 0" xyz="0 1 0"/>
    <parent link="finger_3_segment_link_8"/>
    <child link="finger_3_segment_link_9"/>
    <origin rpy="0 0 0" xyz="0.019 0 0"/>
    <limit effort="1000.0" lower="-1.0" upper="1.0" velocity="1.0"/>
    <dynamics damping="0.001" friction="0.0"/>
  </joint>
  <gazebo reference="finger_3_segment_joint_8">
    <provideFeedback>1</provideFeedback>
    <springReference>0.0</springReference>
    <implicitSpringDamper>1</implicitSpringDamper>
    <springStiffness>3.0</springStiffness>
  </gazebo>
  <!-- set transmission for gazebo ROS controllers-->
  <transmission name="finger_3_segment_tran_8">
    <type>transmission_interface/SimpleTransmission</type>
    <joint name="finger_3_segment_joint_8">
      <hardwareInterface>hardware_interface/EffortJointInterface</hardwareInterface>
    </joint>
    <actuator name="finger_3_segment_motor_8">
      <hardwareInterface>hardware_interface/EffortJointInterface</hardwareInterface>
      <mechanicalReduction>1</mechanicalReduction>
    </actuator>
  </transmission>
  <link name="finger_3_segment_link_10">
    <inertial>
      <mass value="0.00633333333333"/>
      <inertia ixx="4.14205277778e-07" ixy="0.00" ixz="0.00" iyy="7.62538611111e-07" iyz="0.00" izz="1.17588888889e-06"/>
      <!-- <inertia ixx="${1e-6 * stability_factor}"
                 iyy="${1e-6 * stability_factor}"
                 izz="${1e-6 * stability_factor}"
                ixy="0.00" iyz="0.00" ixz="0.00" /> -->
    </inertial>
    <visual>
      <origin rpy="0 0 0" xyz="0.0095 0 0"/>
      <geometry>
        <box size="0.019 0.028 0.0009"/>
      </geometry>
    </visual>
    <collision>
      <origin rpy="0 0 0" xyz="0.0095 0 0"/>
      <geometry>
        <box size="0.019 0.028 0.0009"/>
      </geometry>
    </collision>
  </link>
  <gazebo reference="finger_3_segment_link_10">
    <material>Gazebo/Orange</material>
    <mu1>0.1</mu1>
    <mu2>0.1</mu2>
    <maxVel>0.0</maxVel>
    <minDepth>0.001</minDepth>
    <!-- <kp>100</kp>
        <kd>1</kd> -->
  </gazebo>
  <!-- bending joint -->
  <joint name="finger_3_segment_joint_9" type="revolute">
    <axis rpy="0 0 0" xyz="0 1 0"/>
    <parent link="finger_3_segment_link_9"/>
    <child link="finger_3_segment_link_10"/>
    <origin rpy="0 0 0" xyz="0.019 0 0"/>
    <limit effort="1000.0" lower="-1.0" upper="1.0" velocity="1.0"/>
    <dynamics damping="0.001" friction="0.0"/>
  </joint>
  <gazebo reference="finger_3_segment_joint_9">
    <provideFeedback>1</provideFeedback>
    <springReference>0.0</springReference>
    <implicitSpringDamper>1</implicitSpringDamper>
    <springStiffness>3.0</springStiffness>
  </gazebo>
  <!-- set transmission for gazebo ROS controllers-->
  <transmission name="finger_3_segment_tran_9">
    <type>transmission_interface/SimpleTransmission</type>
    <joint name="finger_3_segment_joint_9">
      <hardwareInterface>hardware_interface/EffortJointInterface</hardwareInterface>
    </joint>
    <actuator name="finger_3_segment_motor_9">
      <hardwareInterface>hardware_interface/EffortJointInterface</hardwareInterface>
      <mechanicalReduction>1</mechanicalReduction>
    </actuator>
  </transmission>
  <!-- Add the finger hook link -->
  <link name="finger_3_finger_hook_link">
    <inertial>
      <mass value="0.00633333333333"/>
      <inertia ixx="4.14205277778e-07" ixy="0.00" ixz="0.00" iyy="7.62538611111e-07" iyz="0.00" izz="1.17588888889e-06"/>
      <!-- <inertia ixx="${1e-6 * stability_factor}"
                 iyy="${1e-6 * stability_factor}"
                 izz="${1e-6 * stability_factor}"
                ixy="0.00" iyz="0.00" ixz="0.00" /> -->
    </inertial>
    <visual>
      <origin rpy="0 0 0" xyz="0.0175 0 0"/>
      <geometry>
        <box size="0.035 0.028 0.0009"/>
      </geometry>
    </visual>
    <collision>
      <origin rpy="0 0 0" xyz="0.0175 0 0"/>
      <geometry>
        <box size="0.035 0.028 0.0009"/>
      </geometry>
    </collision>
  </link>
  <gazebo reference="finger_3_finger_hook_link">
    <material>Gazebo/Orange</material>
    <mu1>0.1</mu1>
    <mu2>0.1</mu2>
    <maxVel>0.0</maxVel>
    <minDepth>0.001</minDepth>
    <!-- <kp>100</kp>
        <kd>1</kd> -->
  </gazebo>
  <!-- Connect the finger hook via a fixed joint -->
  <joint name="finger_3_finger_hook_joint" type="fixed">
    <parent link="finger_3_segment_link_10"/>
    <child link="finger_3_finger_hook_link"/>
    <origin rpy="0 -1.57079632679 0" xyz="0.019 0 0"/>
  </joint>
  <gazebo>
    <plugin filename="libfinger_controller_plugin.so" name="finger_controller_plugin"/>
  </gazebo>
  <!-- attach them to the gripper -->
  <joint name="to_segmented_finger_1" type="fixed">
    <origin rpy="1.57079632679 0 0" xyz="0.129 -0.007 0"/>
    <parent link="finger_1"/>
    <child link="finger_1_segment_link_1"/>
  </joint>
  <joint name="to_segmented_finger_2" type="fixed">
    <origin rpy="1.57079632679 0 0" xyz="0.129 -0.007 0"/>
    <parent link="finger_2"/>
    <child link="finger_2_segment_link_1"/>
  </joint>
  <joint name="to_segmented_finger_3" type="fixed">
    <origin rpy="1.57079632679 0 0" xyz="0.129 -0.007 0"/>
    <parent link="finger_3"/>
    <child link="finger_3_segment_link_1"/>
  </joint>
  <!-- attach gripper to the ground for gazebo -->
  <link name="world"/>
  <joint name="world_to_base" type="fixed">
    <origin rpy="3.14159265359 0 0" xyz="0 0 1"/>
    <parent link="world"/>
    <child link="gripper_base_link"/>
  </joint>
</robot>
